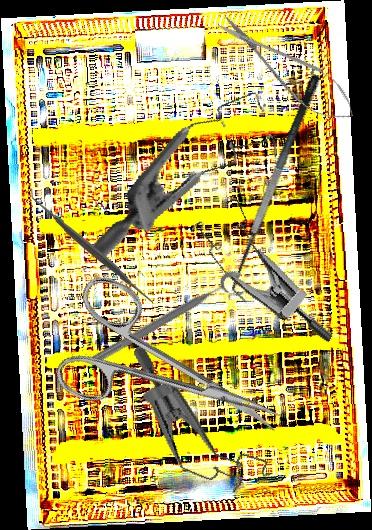Fixation Ring: (87, 266, 251, 378)
Iris Scissors: (40, 269, 304, 482)
Micro Scissor: (208, 3, 366, 134)
Spatula Surgical: (218, 72, 340, 304), (28, 187, 156, 312)
Speculum: (91, 58, 294, 300), (97, 343, 299, 506), (174, 187, 368, 344)
